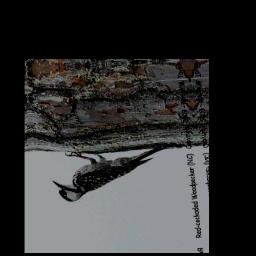Woodpecker: (49, 143, 180, 204)
